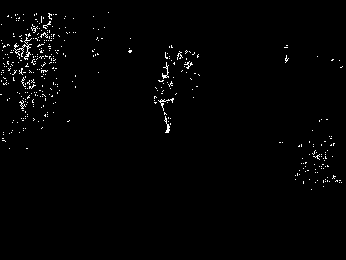person: (154, 68, 182, 137)
